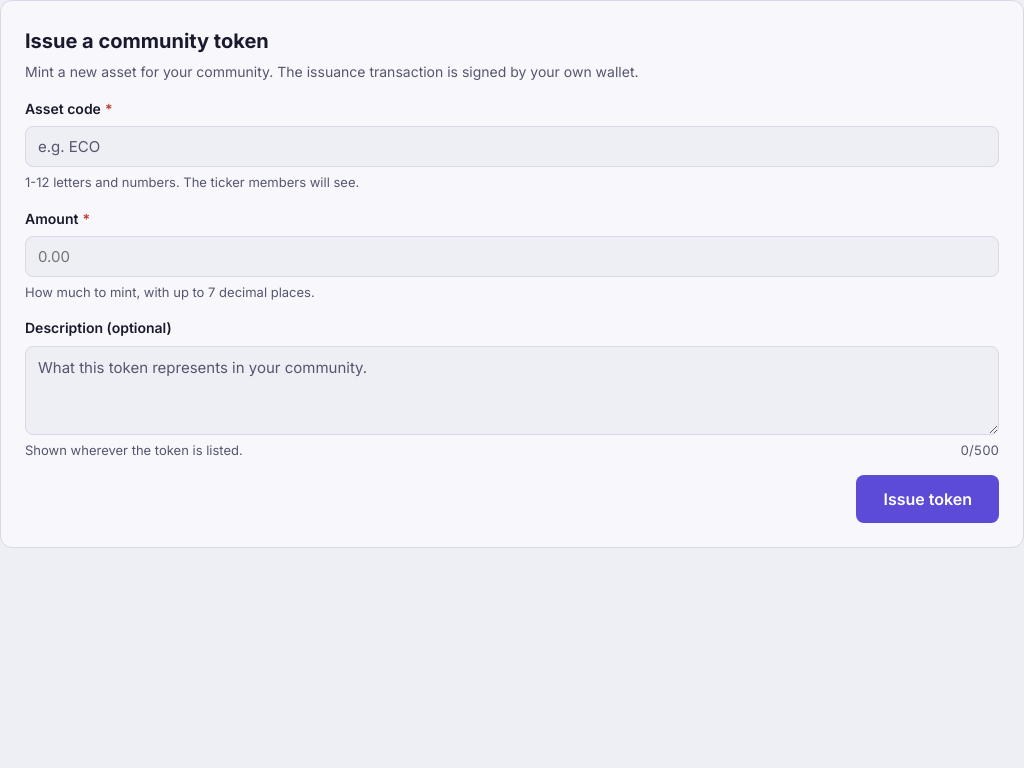
Test: TokenIssuanceForm › validation › rejects an empty submission rather than issuing nothing
The image size is (1024, 768).
Click the button "Issue token".
click(928, 499)  # box [856,475,999,523]
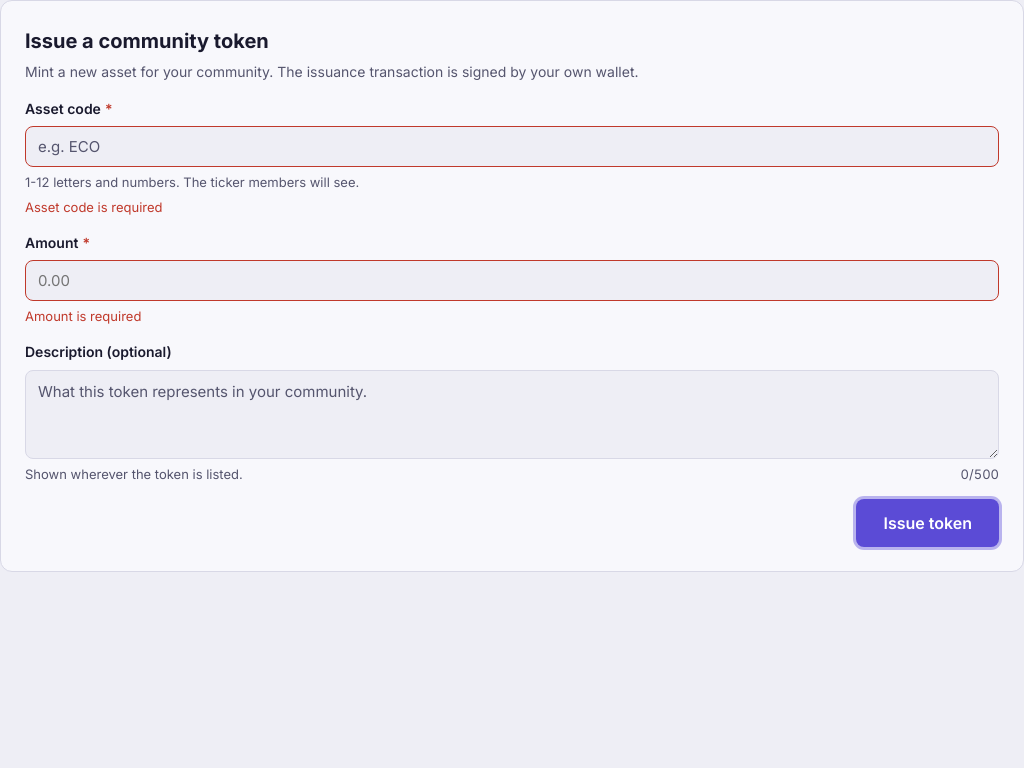
Expected: the text "Asset code is required" is shown, [25,199,162,215]
Expected: the text "Amount is required" is shown, [25,308,141,324]
